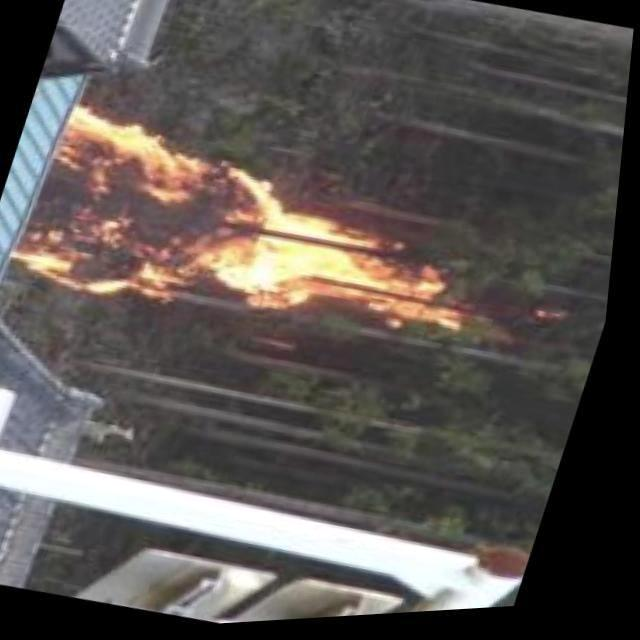fire: (6, 88, 494, 372)
